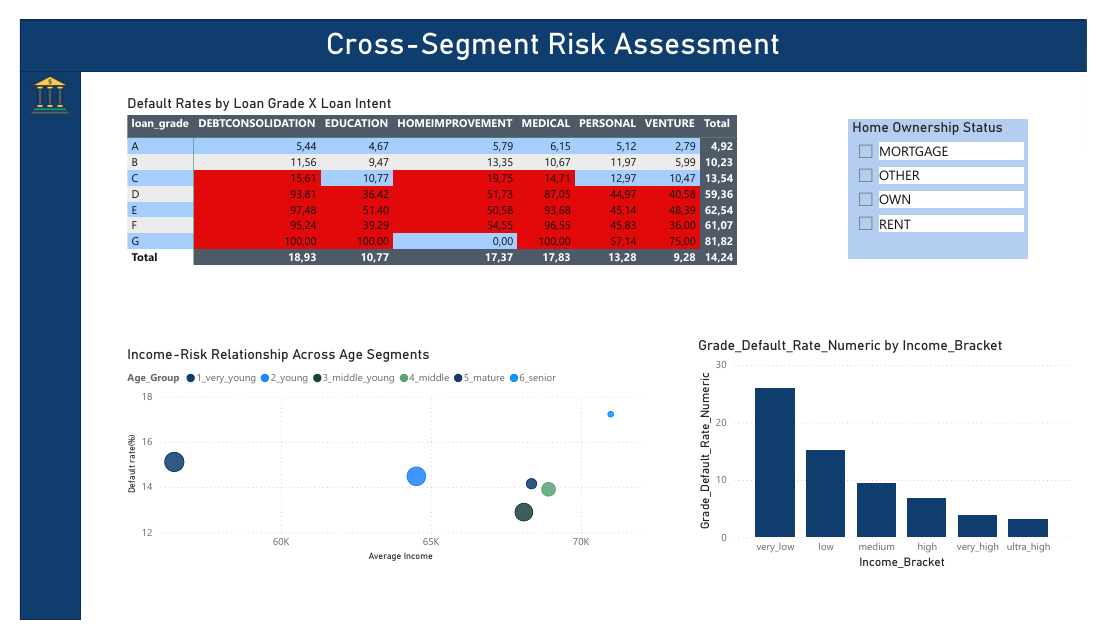

Layout of this report page (visuals, bound fields, positions):
{"tool":"powerbi","page":{"name":"Cross-Segment Risk Assessment","canvas":[1280,720],"ordinal":3},"visuals":[{"type":"shape","box":[0,0,1280,62.2],"z":0},{"type":"card","fields":{"Values":["sheet1.Heading4"]},"box":[154.4,8.9,971.1,53.3],"z":1000},{"type":"shape","box":[0,62,73,658],"z":2000},{"type":"image","box":[0,62,73,57],"z":3000},{"type":"pivotTable","title":"Default Rates by Loan Grade X Loan Intent","fields":{"Rows":["sheet1.loan_grade"],"Columns":["sheet1.loan_intent"],"Values":["sheet1.Grade_Default_Rate_Numeric"]},"box":[124.4,90,755.6,244.4],"z":4000},{"type":"slicer","title":"Home Ownership Status","fields":{"Values":["sheet1.person_home_ownership"]},"box":[994.4,118.9,215.6,167.8],"z":5000},{"type":"scatterChart","title":"Income-Risk Relationship Across Age Segments","fields":{"X":["sheet1.Avg_Income_by_Age"],"Y":["sheet1.Default_Rate_by_Age"],"Series":["sheet1.Age_Group"],"Size":["sheet1.Age_Group_Size"]},"box":[124.4,391.1,635.6,263.3],"z":6000},{"type":"clusteredColumnChart","fields":{"Category":["sheet1.Income_Bracket"],"Y":["sheet1.Grade_Default_Rate_Numeric"]},"box":[808.9,381.1,455.6,283.3],"z":7000}]}

Visuals, with their boxes in screenshot pixels (x1, y1, x2, y2), scaled from the page's 1280x720 canvas onto the 1107x640 screenshot:
shape: bbox=[0, 0, 1106, 55]
card - sheet1.Heading4: bbox=[134, 8, 973, 55]
shape: bbox=[0, 55, 63, 639]
image: bbox=[0, 55, 63, 106]
"Default Rates by Loan Grade X Loan Intent" pivotTable: bbox=[108, 80, 761, 297]
"Home Ownership Status" slicer: bbox=[860, 106, 1046, 255]
"Income-Risk Relationship Across Age Segments" scatterChart: bbox=[108, 348, 657, 582]
clusteredColumnChart - sheet1.Income_Bracket x sheet1.Grade_Default_Rate_Numeric: bbox=[700, 339, 1094, 591]
